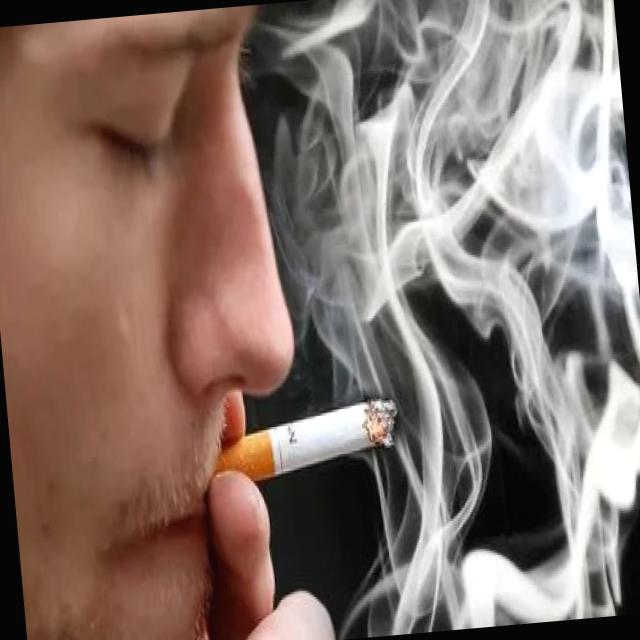cigarette: (208, 390, 405, 496)
